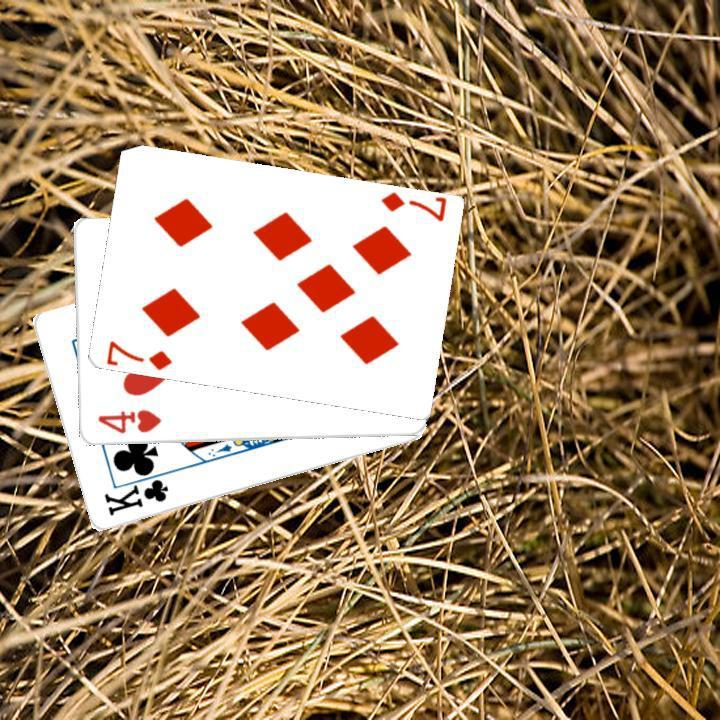4: (93, 405, 162, 436)
7: (102, 337, 174, 372), (376, 189, 447, 224)
K: (99, 466, 172, 518)
